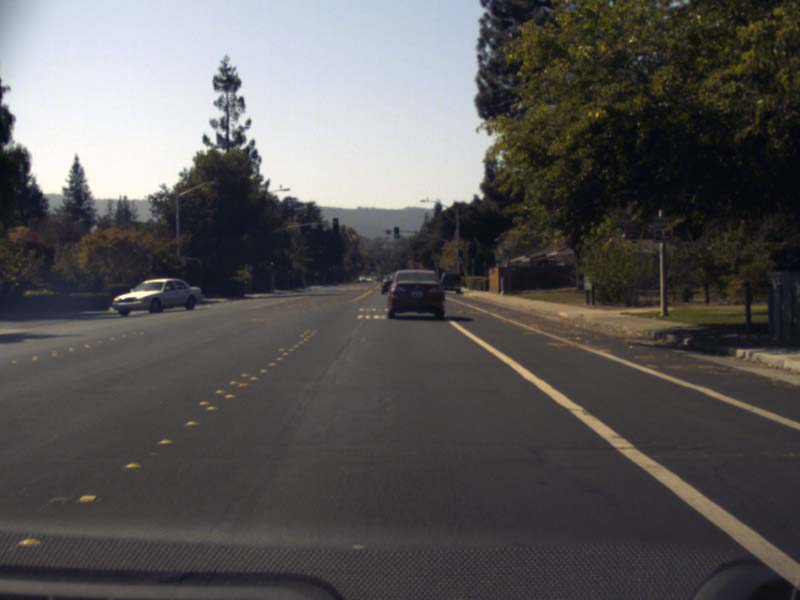Green: (394, 227, 399, 237)
